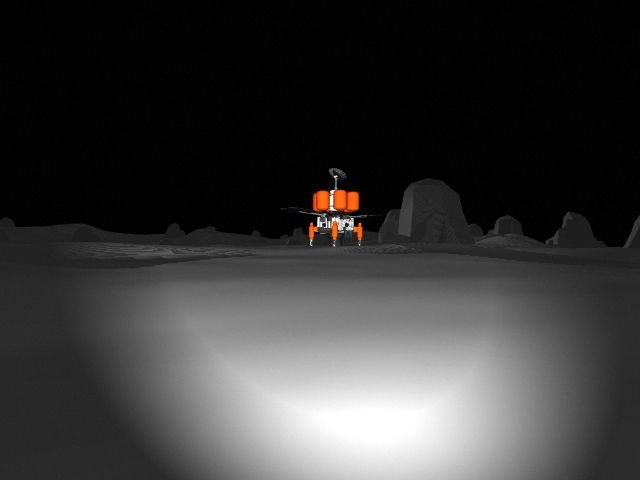homebase: (279, 164, 385, 251)
